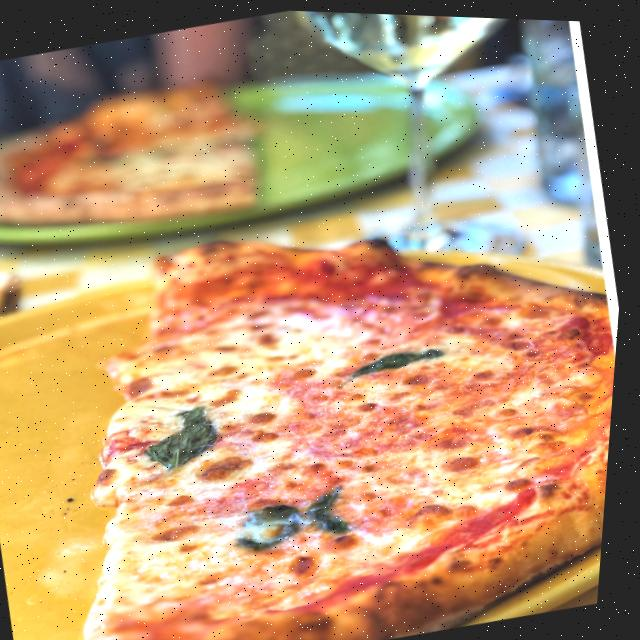basil: (235, 479, 362, 554), (143, 400, 231, 473), (353, 339, 450, 377)
pizza: (0, 157, 631, 640)
